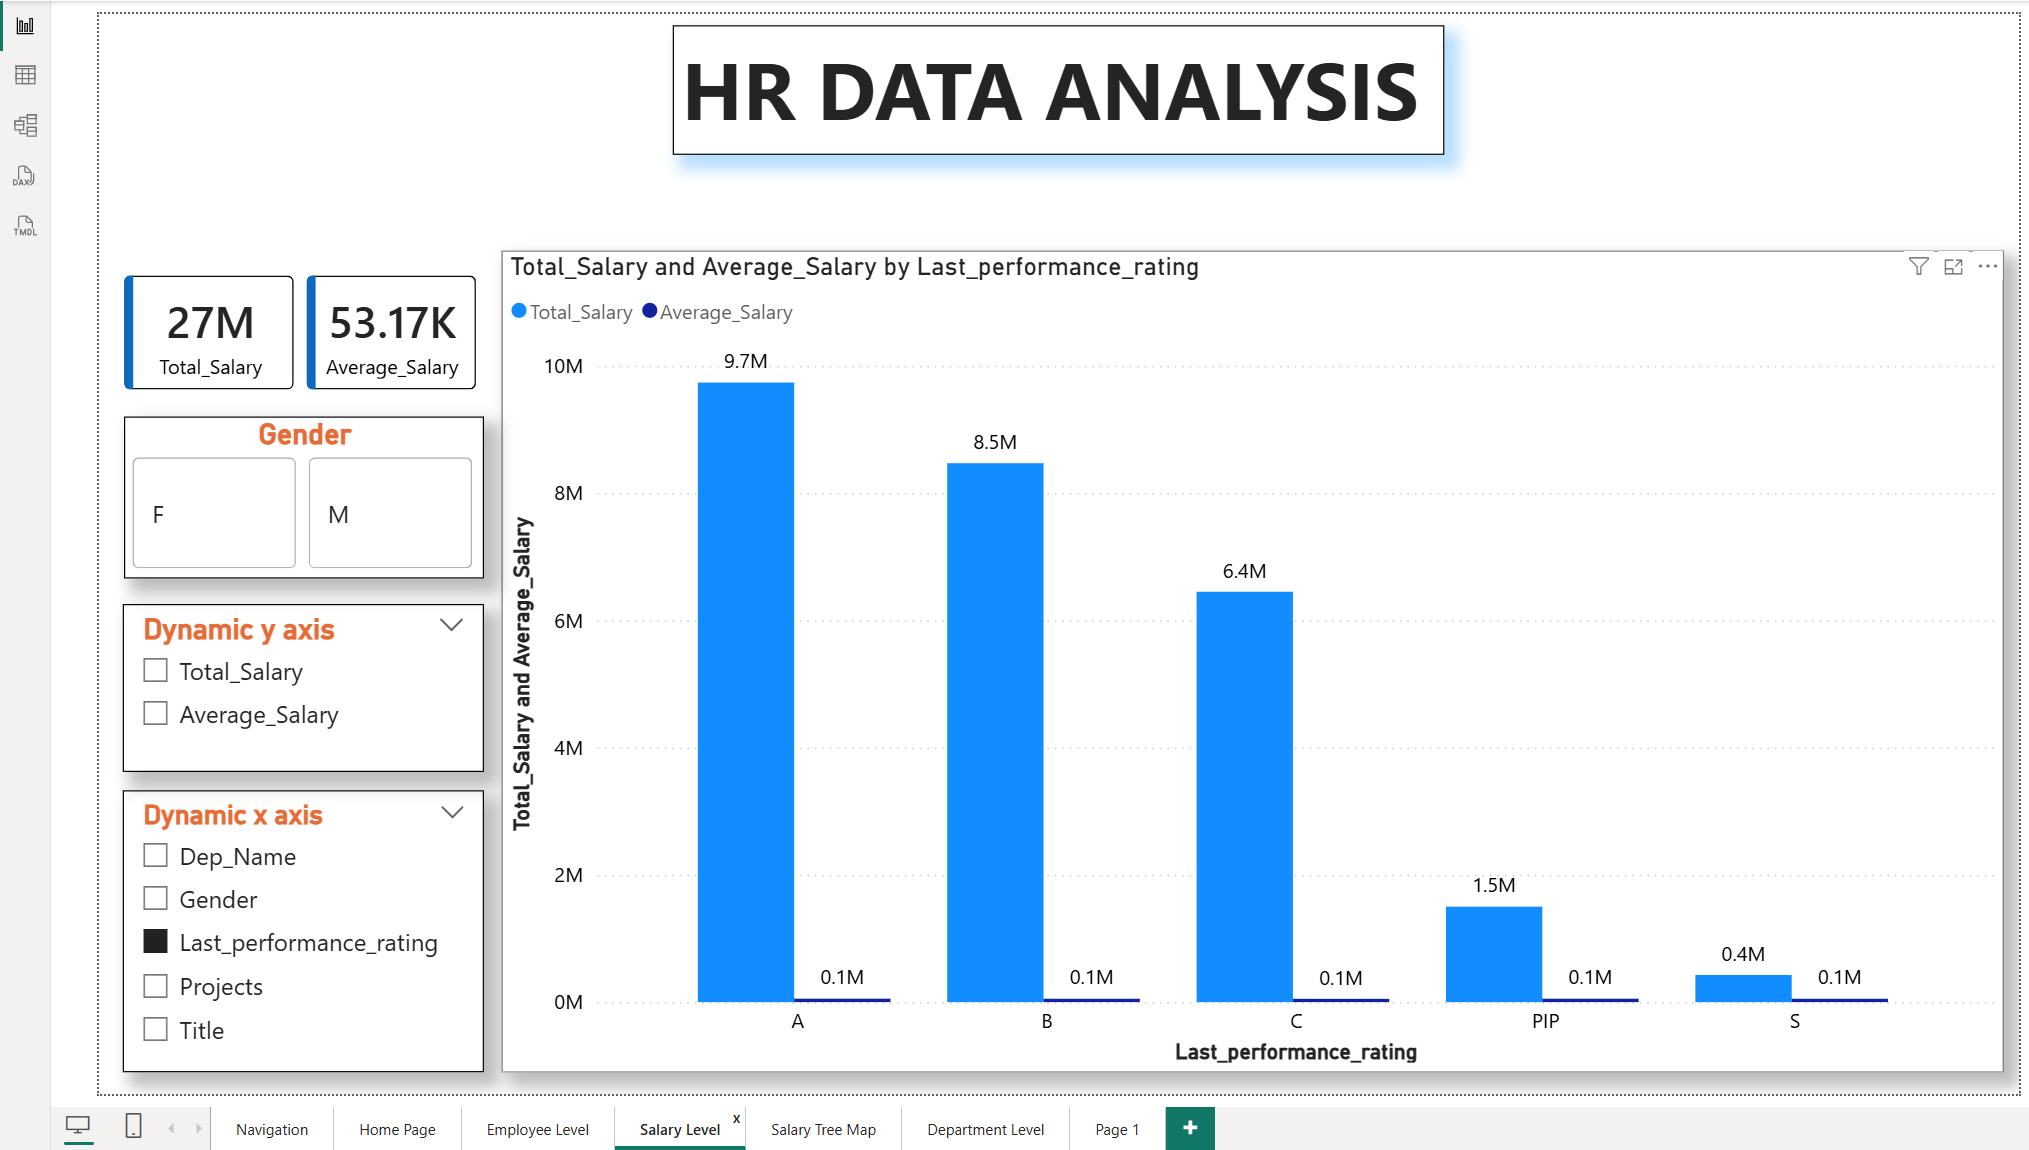

What the dashboard file says about the page in this screenshot:
{"tool":"powerbi","page":{"name":"Salary Level","canvas":[1280,720],"ordinal":3},"visuals":[{"type":"cardVisual","fields":{"Data":["Emp_Info.Total_Salary","Emp_Info.Average_Salary"]},"box":[0,157.3,268.2,110.9],"z":0},{"type":"slicer","fields":{"Values":["Dynamic x axis.Dynamic x axis"]},"box":[15.5,517.3,240.9,188.2],"z":1000},{"type":"slicer","fields":{"Values":["Dynamic y axis.Dynamic y axis"]},"box":[15.5,393.6,240.9,111.8],"z":2000},{"type":"clusteredColumnChart","fields":{"Category":["Emp_Info.Last_performance_rating"],"Y":["Emp_Info.Total_Salary","Emp_Info.Average_Salary"]},"box":[268.2,157.3,1001.8,548.2],"z":3000},{"type":"textbox","box":[382.7,7.3,514.5,86.4],"z":4000},{"type":"advancedSlicerVisual","fields":{"Values":["Emp_Info.Gender"]},"box":[16.4,268.2,240,108.2],"z":5000}]}

Visuals, with their boxes on the page's 1280x720 design canvas (x1, y1, x2, y2). These are canvas units, not pixel positions in the 2029x1150 screenshot, which may show the page scaled, cropped or inside an application window:
cardVisual - Emp_Info.Total_Salary x Emp_Info.Average_Salary: crop(0, 157, 268, 268)
slicer - Dynamic x axis.Dynamic x axis: crop(16, 517, 256, 706)
slicer - Dynamic y axis.Dynamic y axis: crop(16, 394, 256, 505)
clusteredColumnChart - Emp_Info.Last_performance_rating x Emp_Info.Total_Salary: crop(268, 157, 1270, 706)
textbox: crop(383, 7, 897, 94)
advancedSlicerVisual - Emp_Info.Gender: crop(16, 268, 256, 376)
